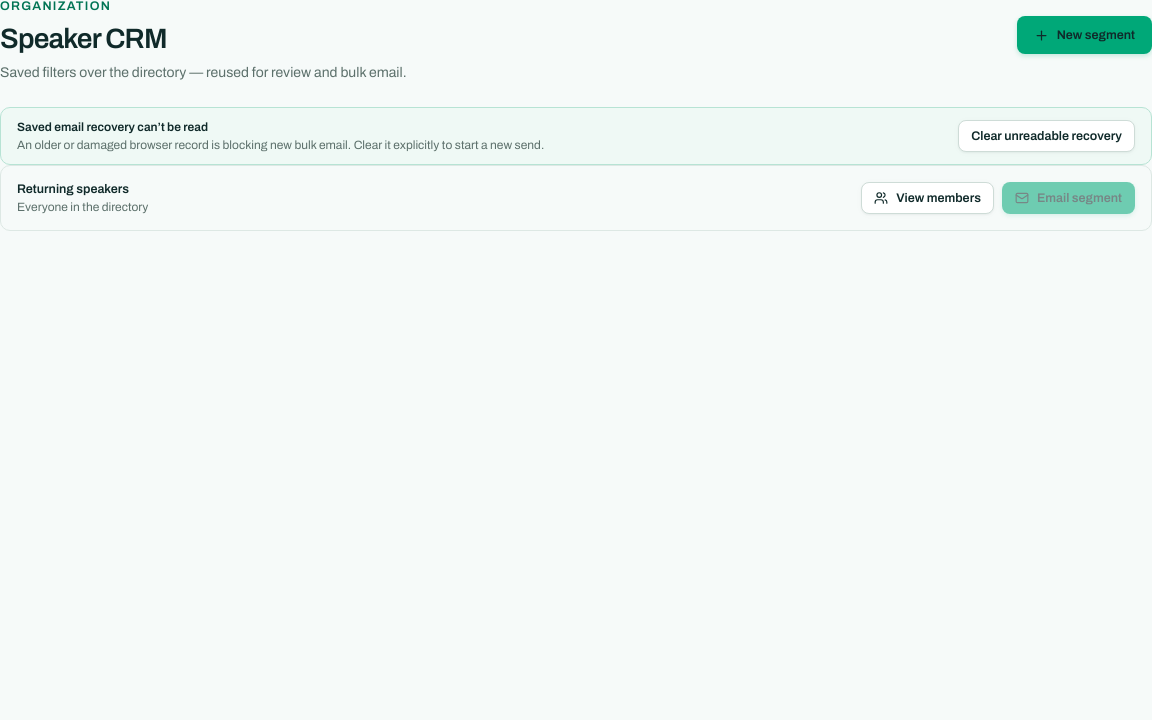
Test: CRM segment send recovery › blocks on old unreadable recovery and unlocks only after confirmed cleanup
Expected: the button "Email segment" is disabled, left=1002, top=182, right=1135, bottom=214
Click the button "Clear unreadable recovery": (1047, 136) left=958, top=120, right=1135, bottom=152
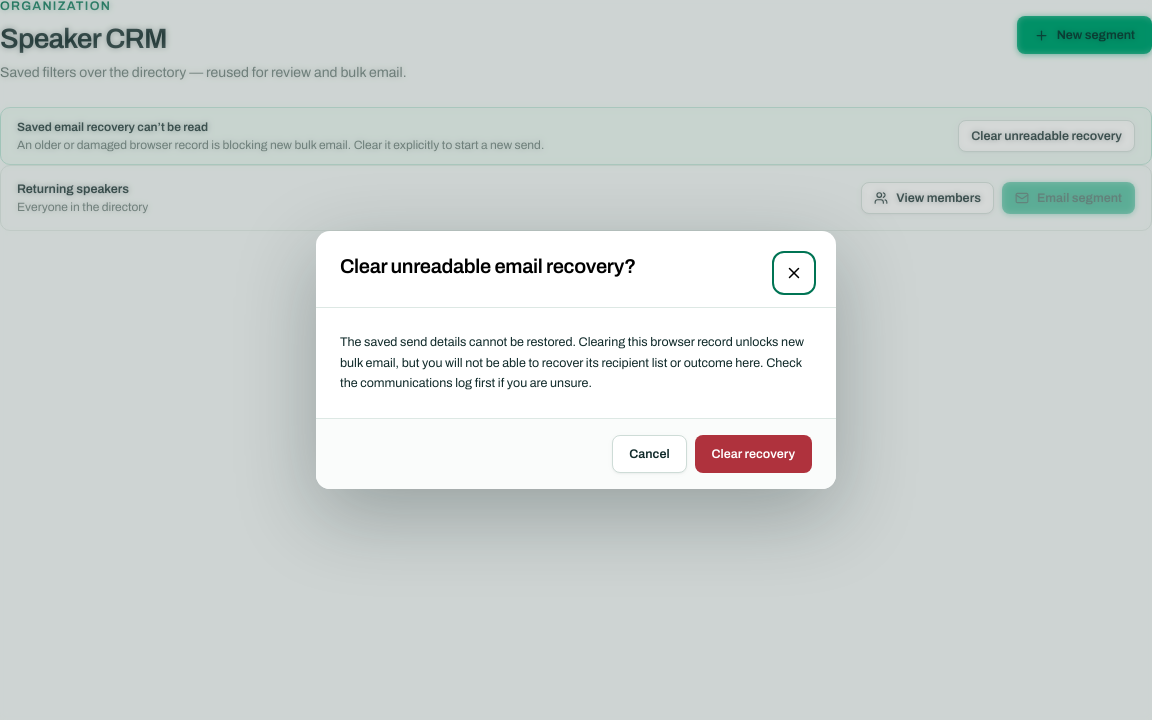
Click the button "Clear recovery": (753, 454) left=695, top=435, right=812, bottom=473
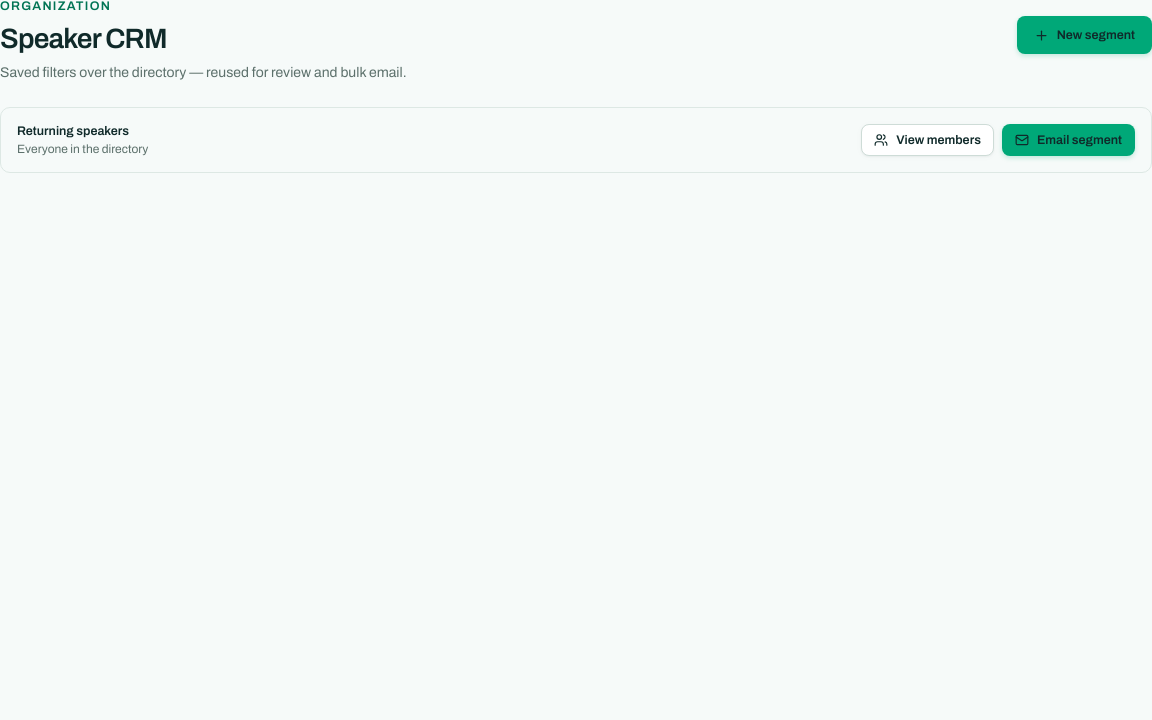
Expected: the text "Saved email recovery can’t be read" is gone
Expected: the button "Email segment" is enabled, left=1002, top=124, right=1135, bottom=156
